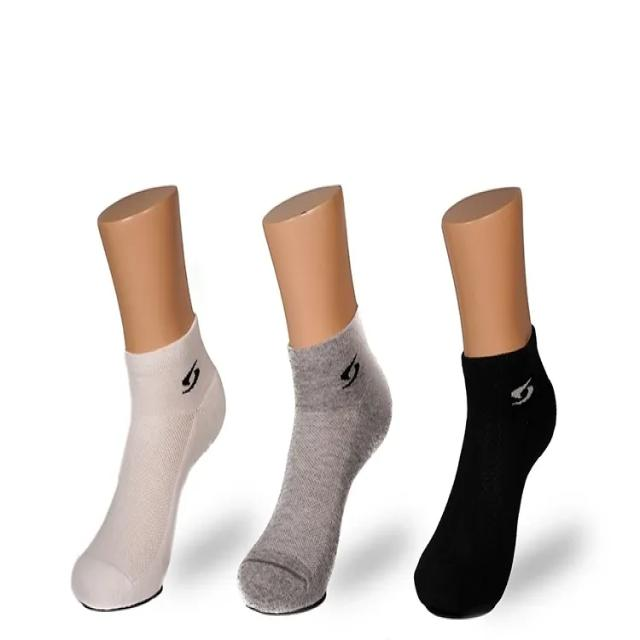sock: (235, 183, 392, 614), (70, 183, 225, 611), (413, 184, 556, 618)
